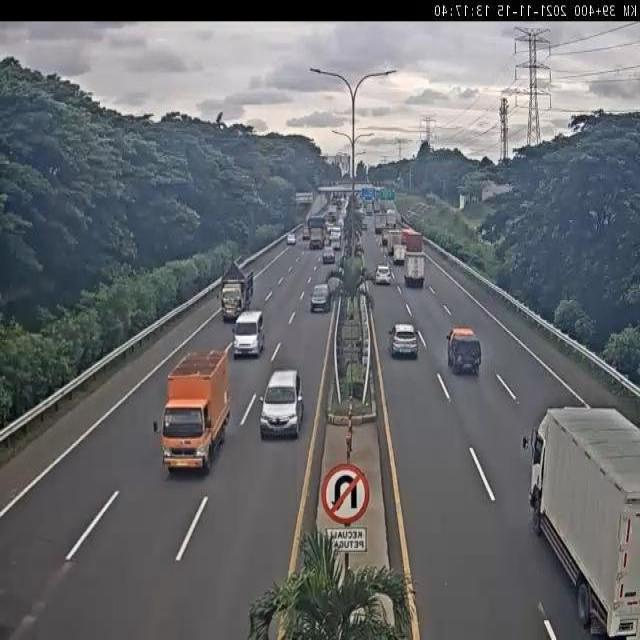Car: (259, 370, 305, 440), (447, 328, 481, 375), (388, 323, 418, 360), (309, 283, 332, 313), (375, 264, 392, 286), (322, 246, 335, 264), (330, 235, 342, 252), (287, 233, 296, 245)
Truck: (521, 405, 640, 640), (151, 352, 231, 474), (217, 256, 254, 322), (404, 252, 424, 288), (399, 229, 422, 254), (308, 213, 324, 248), (393, 243, 407, 264), (374, 214, 387, 236)
Van: (232, 310, 265, 357)
